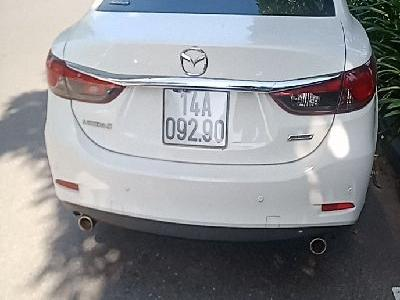number: (162, 84, 229, 149)
